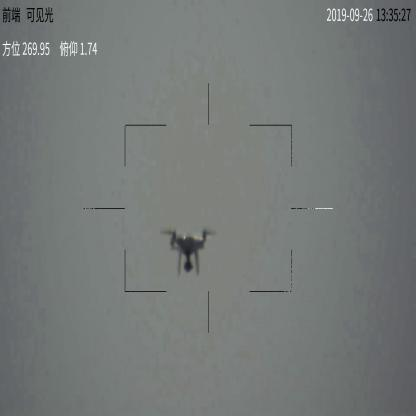uav: (159, 228, 217, 276)
